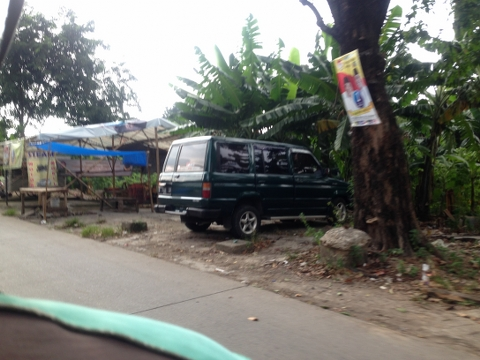mobil: (153, 135, 351, 238)
